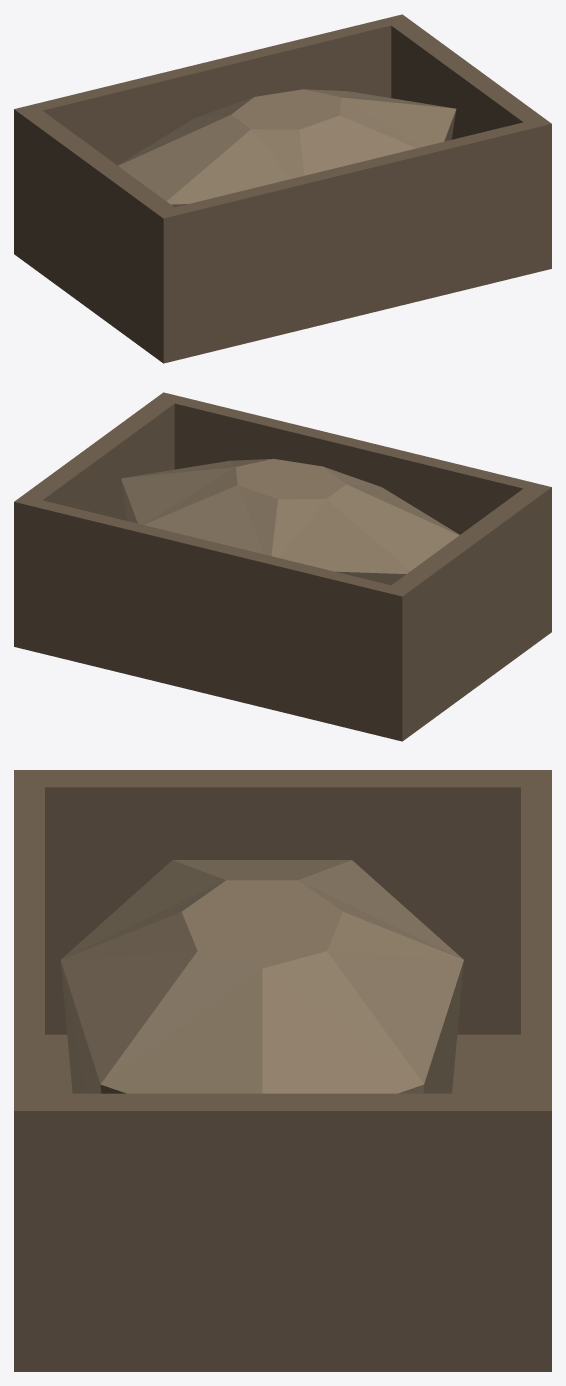
Rendered from sawdust_bin.glb.
3 views of the same model, one above another, from view 1: azimuth 30°, elevation 25°; view 2: azimuth 150°, elevation 25°; view 3: azimuth 270°, elevation 25° (orthographic). The views are drawn at different scales.
Parts seen in each view (by area): view 1: sawdust_bin; view 2: sawdust_bin; view 3: sawdust_bin.
Part boxes in pixels (x1,y1,x2,y2): sawdust_bin: [14, 14, 551, 363]; sawdust_bin: [14, 392, 551, 741]; sawdust_bin: [14, 770, 551, 1371].
Size of the model in its own units: 2.88 by 1.1 by 1.92.
